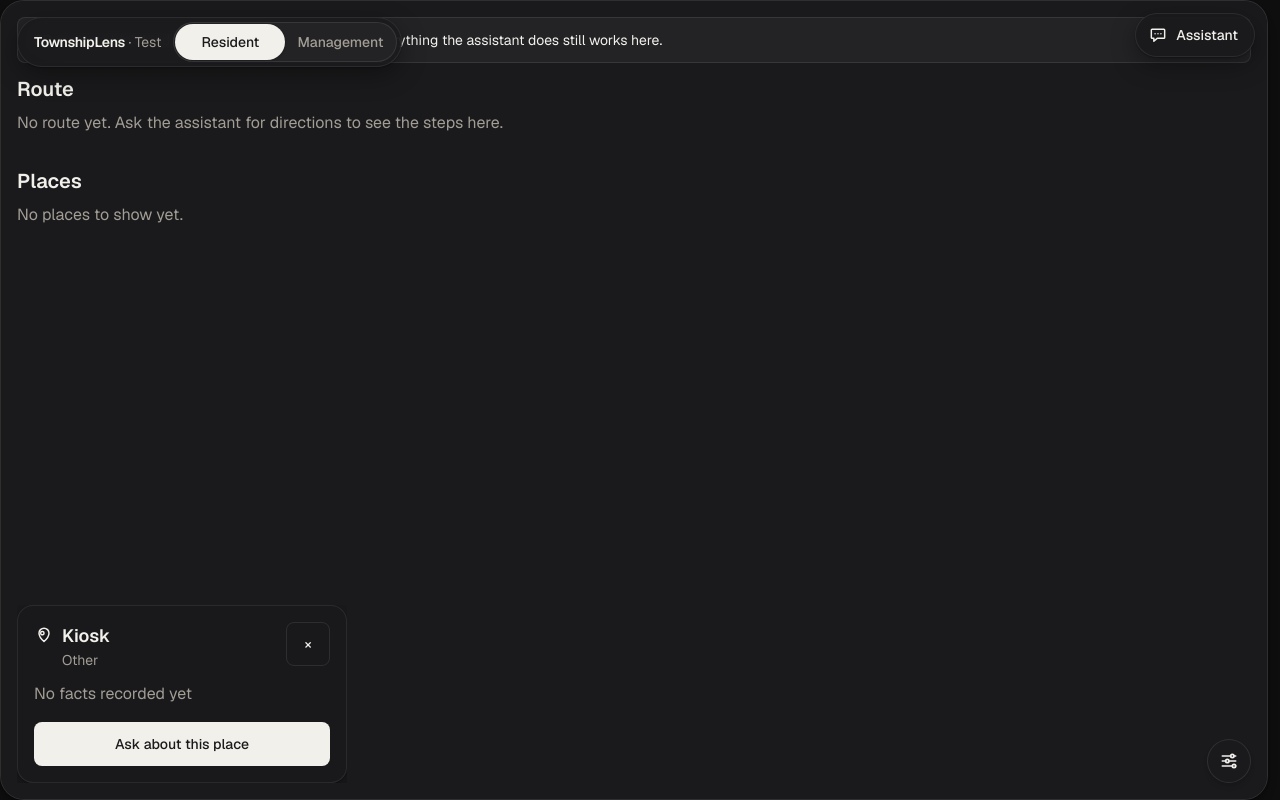
Test: MainPage › Ask about this place opens a closed panel and focuses the composer
Click the button "Ask about this place": (182, 744) [34, 722, 330, 766]
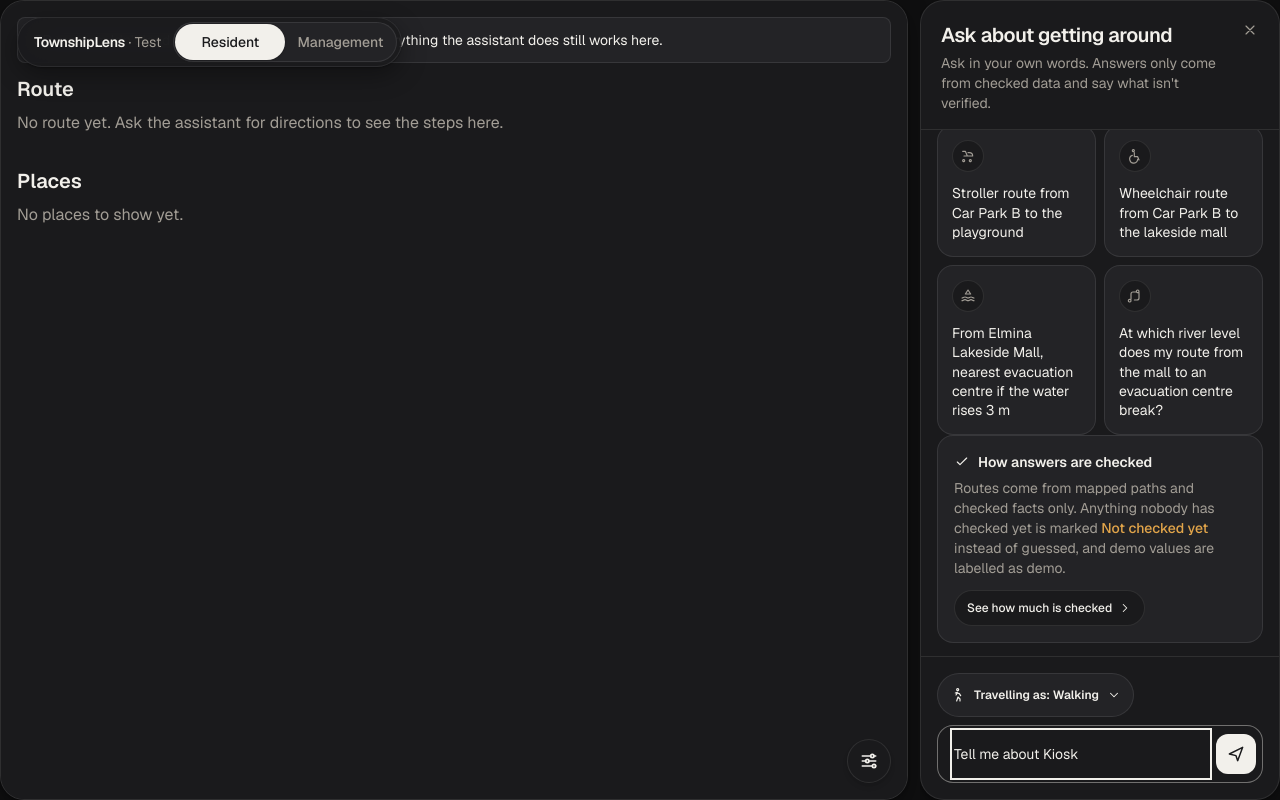
Expected: the field named "Your question" holds "Tell me about Kiosk", [954, 732, 1208, 776]
